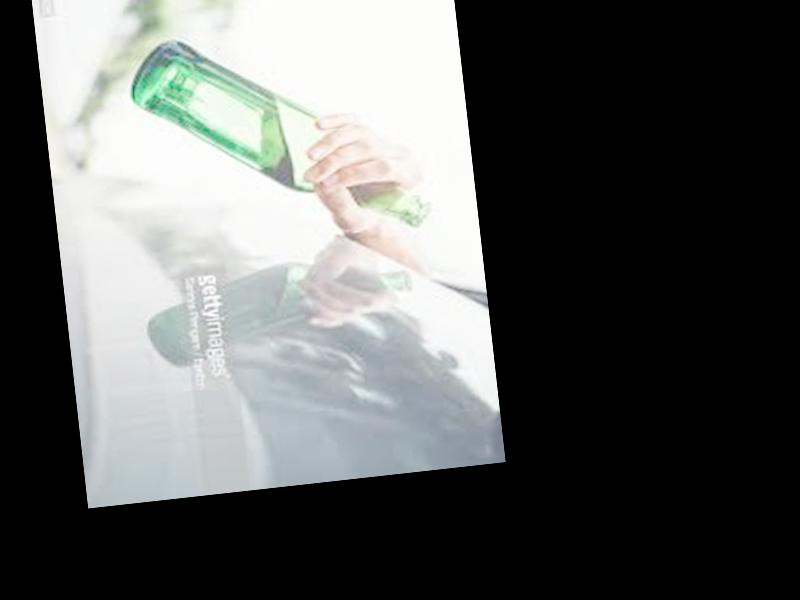Beer: (124, 16, 430, 260)
